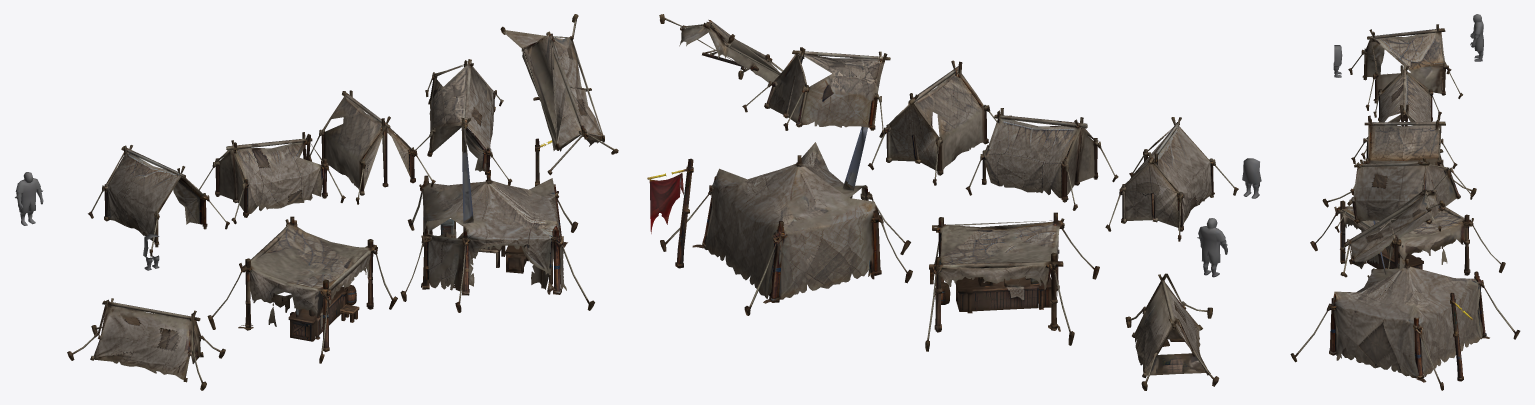
Rendered from tent_sheet_pbr.glb.
The picture shows the model from 3 angles, left to right: view 1: azimuth 30°, elevation 25°; view 2: azimuth 150°, elevation 25°; view 3: azimuth 270°, elevation 25°; orthographic projection. The views are drawn at different scales.
Visible parts, largest first — view 1: tripo_4370c02e_8595_4df2_b77c_51c0ca55df2d; view 2: tripo_4370c02e_8595_4df2_b77c_51c0ca55df2d; view 3: tripo_4370c02e_8595_4df2_b77c_51c0ca55df2d.
Boxes of the visible parts, left/top/right/bottom form: tripo_4370c02e_8595_4df2_b77c_51c0ca55df2d: left=15, top=14, right=618, bottom=390; tripo_4370c02e_8595_4df2_b77c_51c0ca55df2d: left=647, top=14, right=1261, bottom=390; tripo_4370c02e_8595_4df2_b77c_51c0ca55df2d: left=1290, top=14, right=1520, bottom=390.
Size of the model in its own units: 0.9995 by 0.3921 by 0.4185.
Materials: 1 (1 with a texture image).
